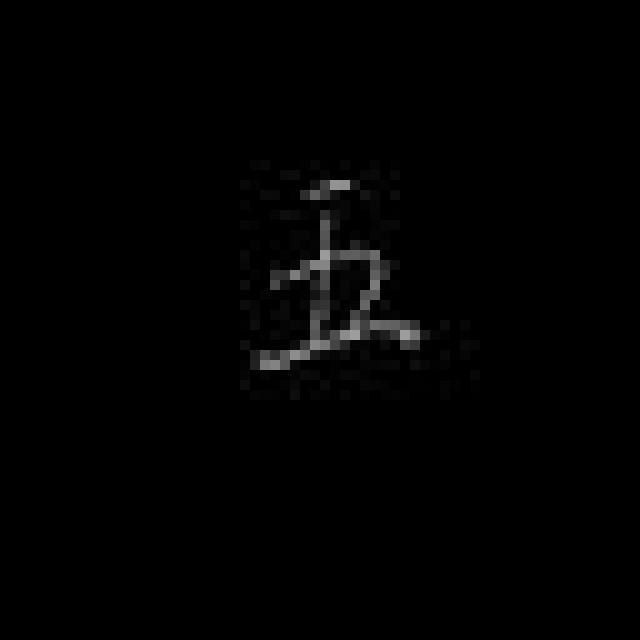5 -five-: (249, 155, 430, 380)
